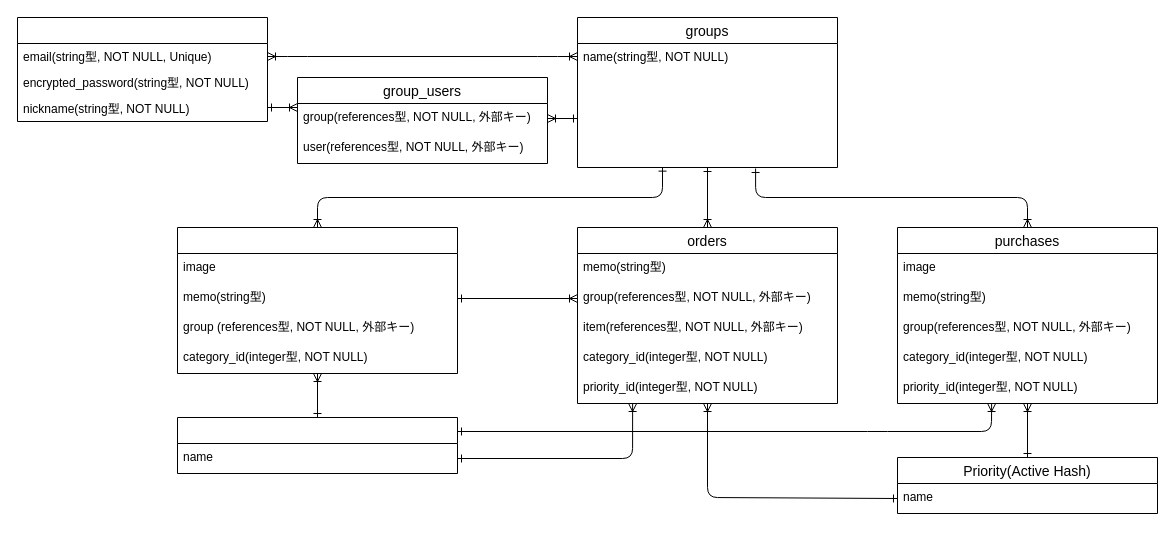
Image size: 1175x534. Some labels were removed from this diagram. Each missing label, with the box of its shape:
Category(Active Hash): (176, 416, 458, 474)
items: (176, 226, 458, 374)
users: (16, 16, 268, 122)
